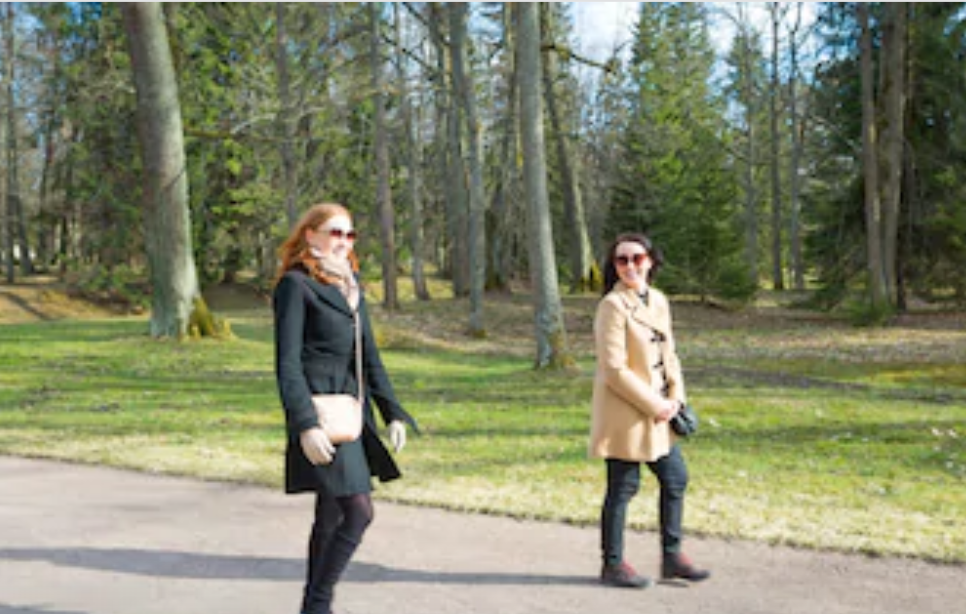Good: (272, 200, 711, 614)
